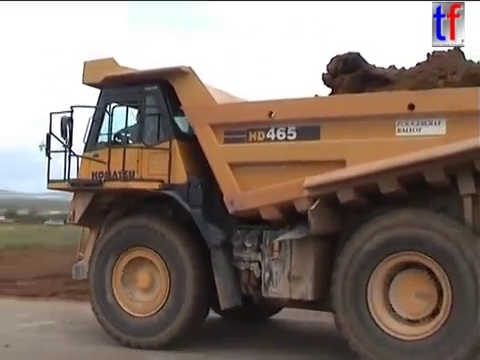truck: (36, 53, 480, 360)
